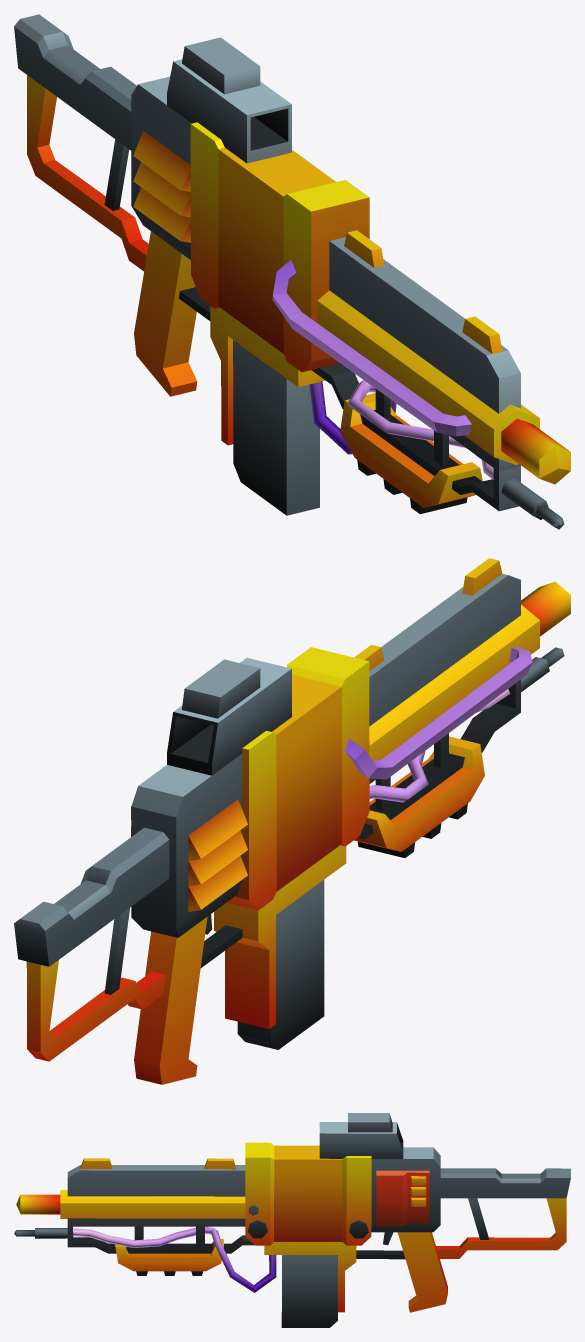
Rendered from Level5Gun.fbx.
3 views of the same model, one above another, from view 1: azimuth 30°, elevation 25°; view 2: azimuth 150°, elevation 25°; view 3: azimuth 270°, elevation 25° (orthographic). The views are drawn at different scales.
Visible parts, largest first — view 1: Weapons_010; view 2: Weapons_010; view 3: Weapons_010.
Boxes of the visible parts, x1,y1,x2,y2 form: Weapons_010: (14,14,570,529); Weapons_010: (14,558,570,1084); Weapons_010: (14,1113,570,1327).
Size of the model in its own units: 14.56 by 57.77 by 141.
Materials: 1 (1 with a texture image).
